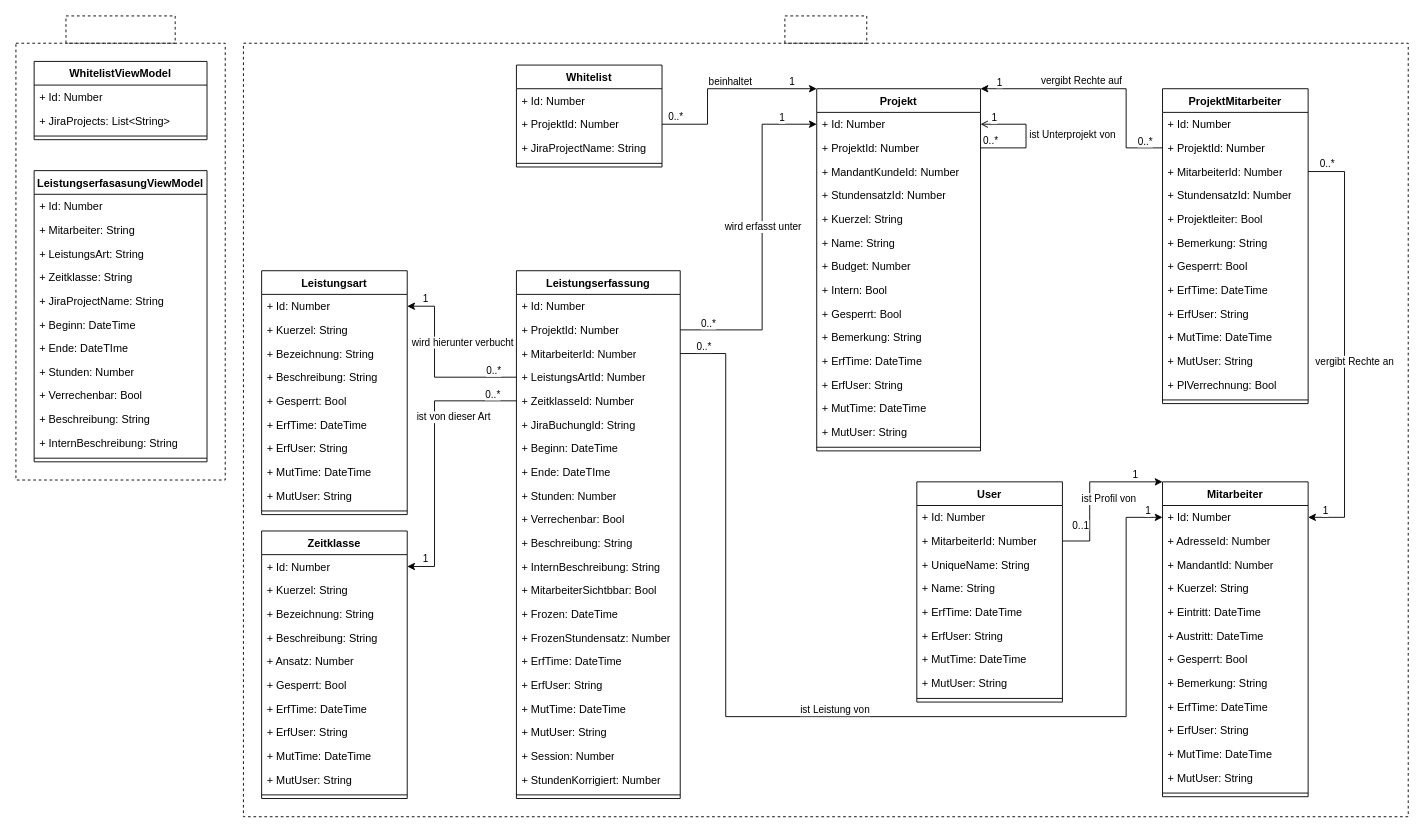
The diagram is 1424 pixels wide and 833 high, and some of its shapes have lost their labels. The shapes that lost their labels are listed below. From the top down, each one's centre as x and y in pixels, then its label:
At point (120, 29): "Application Project".
At point (825, 29): "Core Project".
